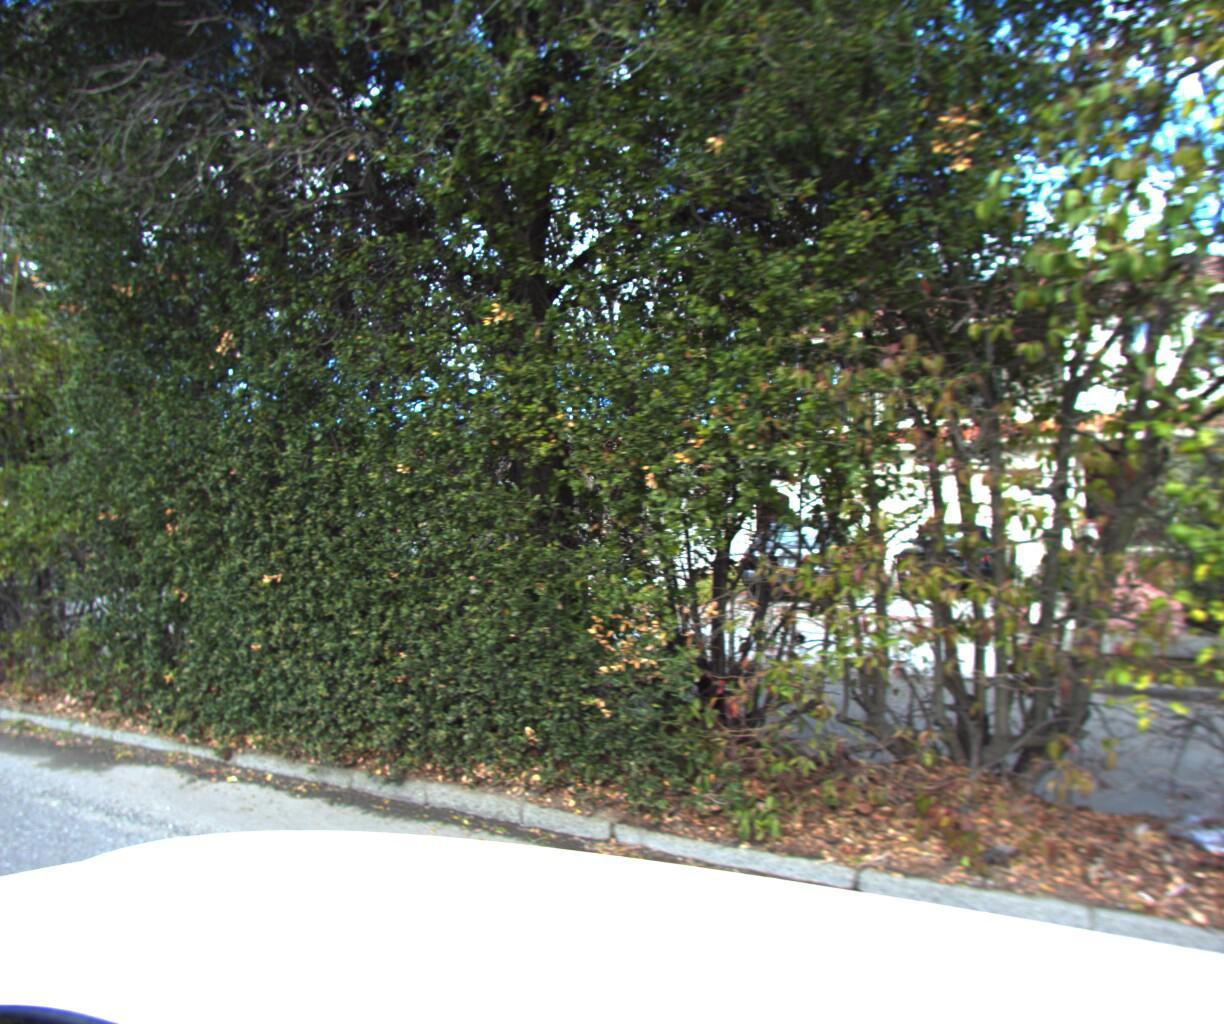car: (734, 517, 888, 612), (891, 521, 1025, 609)
